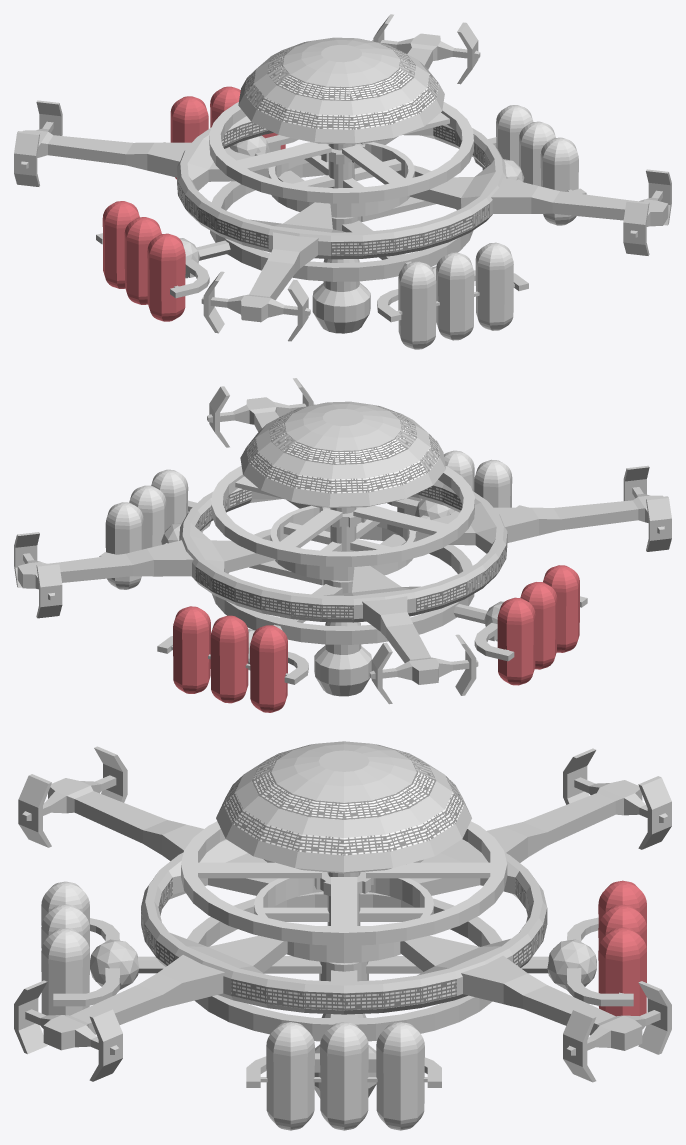
Rendered from spaceStationA 1.fbx.
3 views of the same model, one above another, from view 1: azimuth 30°, elevation 25°; view 2: azimuth 150°, elevation 25°; view 3: azimuth 270°, elevation 25° (orthographic). The views are drawn at different scales.
Visible parts, largest first — view 1: BodyA, RingA.001, TankGroup.003, RingA, TankGroup.001, BodyAWindows, DockingClamp.003, RingA.003, DockingClamp, DockingClamp.002, TankGroup.002, RingAWindows (+7 smaller); view 2: BodyA, RingA.001, TankGroup, RingA, TankGroup.001, BodyAWindows, DockingClamp.001, RingA.003, DockingClamp.002, DockingClamp, TankGroup.002, RingAWindows (+6 smaller); view 3: BodyA, RingA.001, RingA, TankGroup.002, RingA.003, BodyAWindows, DockingClamp.003, DockingClamp.001, DockingClamp.002, DockingClamp, RingA.002, TankGroup (+5 smaller).
Boxes of the visible parts, box(x1,y1,x2,y2) form: BodyA: box(238, 37, 444, 333); RingA.001: box(177, 116, 506, 259); TankGroup.003: box(398, 242, 513, 349); RingA: box(209, 102, 473, 203); TankGroup.001: box(102, 201, 185, 321); BodyAWindows: box(244, 39, 438, 129); DockingClamp.003: box(491, 169, 671, 255); RingA.003: box(210, 162, 473, 281); DockingClamp: box(14, 100, 191, 186); DockingClamp.002: box(201, 232, 318, 341); TankGroup.002: box(496, 105, 578, 225); RingAWindows: box(177, 122, 490, 255); BodyA: box(240, 401, 445, 696); RingA.001: box(179, 480, 507, 622); TankGroup: box(173, 606, 287, 712); RingA: box(211, 465, 474, 566); TankGroup.001: box(497, 565, 579, 685); BodyAWindows: box(246, 403, 439, 493); DockingClamp.001: box(14, 532, 193, 618); RingA.003: box(212, 526, 474, 644); DockingClamp.002: box(494, 465, 671, 551); DockingClamp: box(362, 596, 478, 704); TankGroup.002: box(105, 469, 188, 589); RingAWindows: box(195, 485, 507, 619); BodyA: box(216, 741, 471, 1098); RingA.001: box(141, 839, 547, 1014); RingA: box(181, 821, 507, 945); TankGroup.002: box(266, 1022, 424, 1130); RingA.003: box(187, 891, 502, 1041); BodyAWindows: box(223, 744, 464, 855); DockingClamp.003: box(14, 955, 224, 1081); DockingClamp.001: box(461, 955, 671, 1082); DockingClamp.002: box(18, 746, 203, 860); DockingClamp: box(487, 748, 671, 862); RingA.002: box(254, 878, 433, 963); TankGroup: box(598, 880, 646, 1016).
Size of the model in its own units: 508 by 282 by 503.
